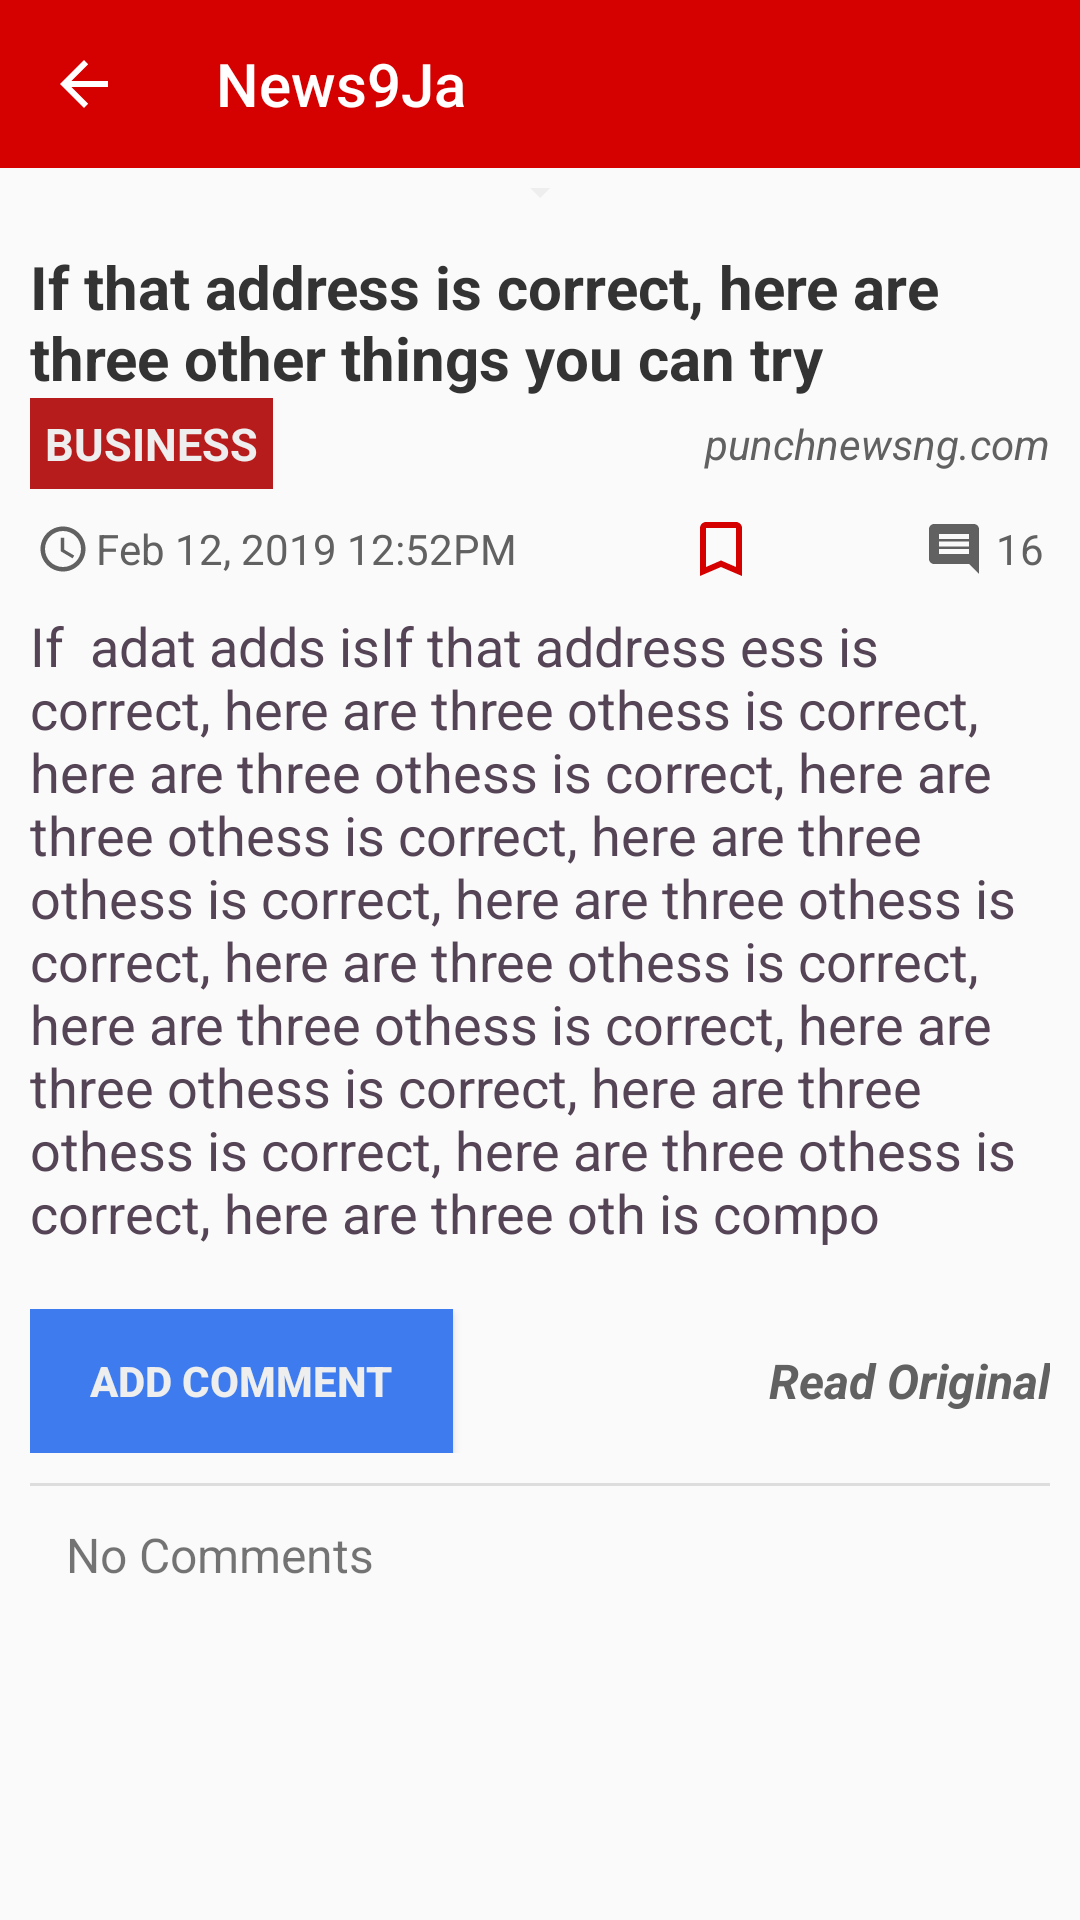

Icon click points for this 1080 x 1920 phone screenshot, format (x=x, y=y):
access time: (x=63, y=549)
bookmark border: (x=721, y=549)
comment: (x=954, y=549)
